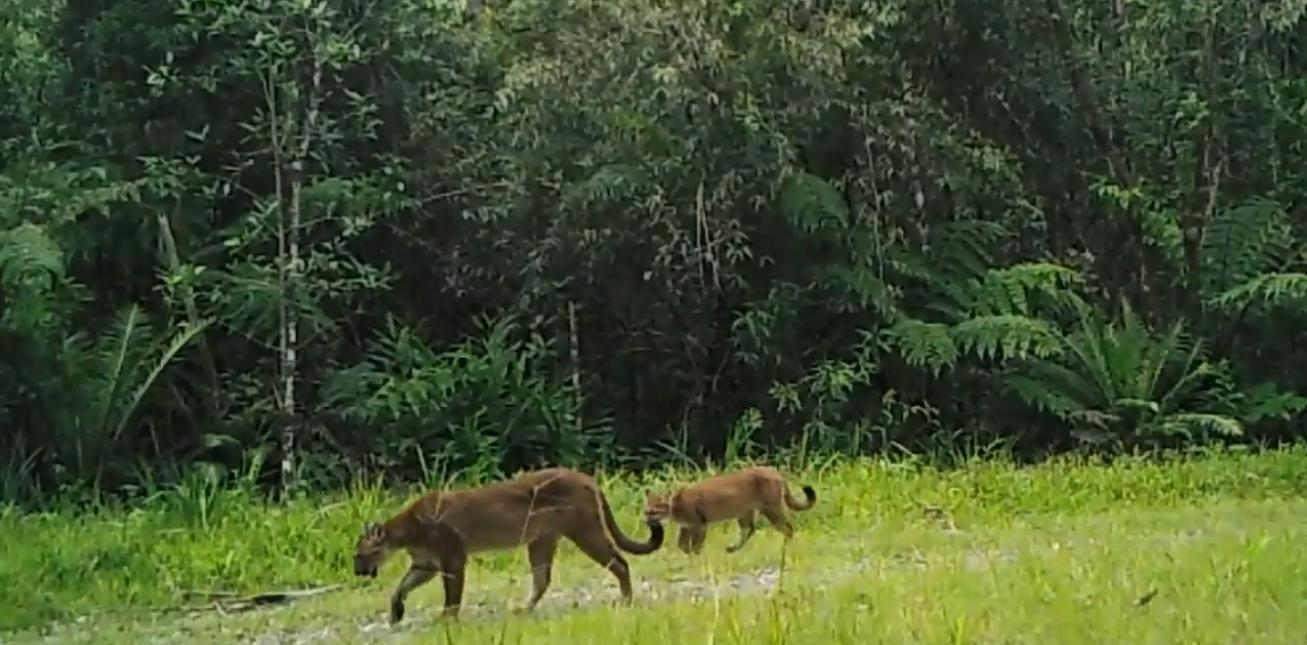OncaParda: (337, 461, 666, 627), (639, 475, 840, 548)
